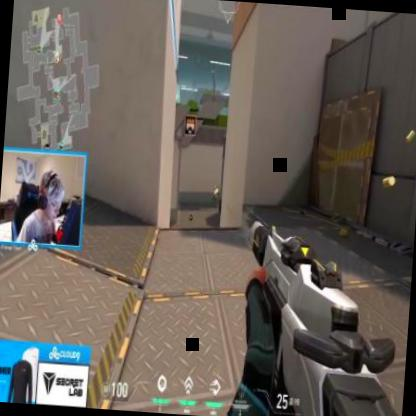enemy: (212, 186, 218, 204)
enemy_head: (214, 186, 216, 190)
